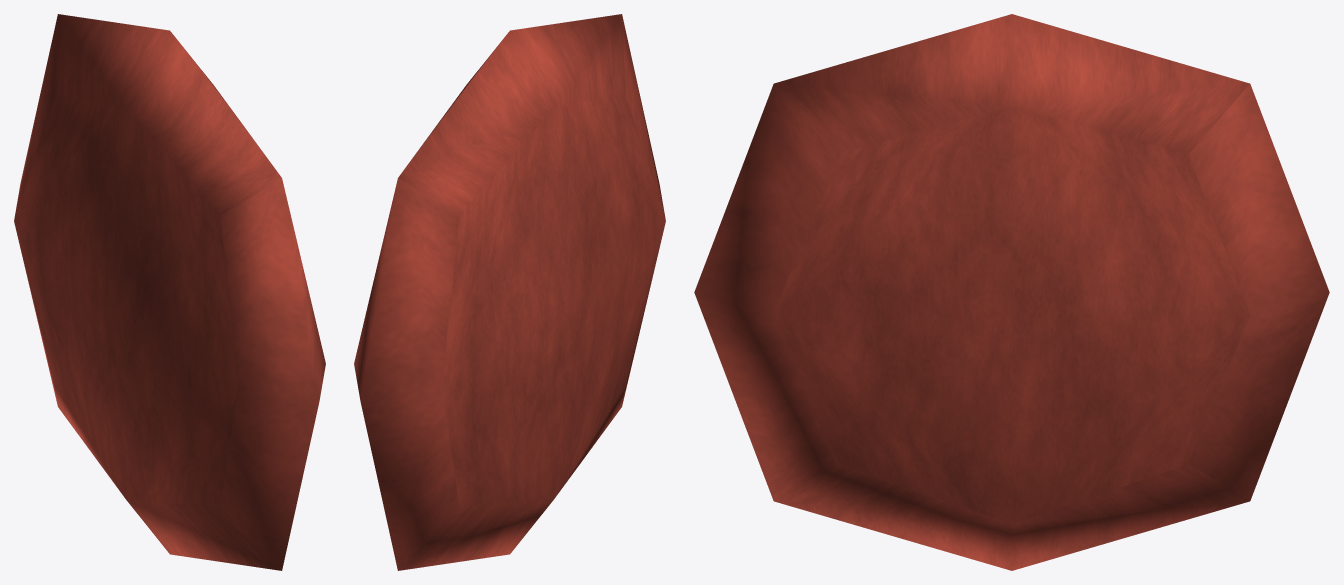
File: blokkade.fbx
3 renders of one model, left to right at view 1: azimuth 30°, elevation 25°; view 2: azimuth 150°, elevation 25°; view 3: azimuth 270°, elevation 25°, orthographic. The views are drawn at different scales.
Visible parts, largest first — view 1: pCube1; view 2: pCube1; view 3: pCube1.
Boxes of the visible parts, x1,y1,x2,y2 form: pCube1: (14, 14, 325, 570); pCube1: (354, 14, 665, 570); pCube1: (694, 14, 1329, 570).
Bounding box in the file's own units: 2.24 × 9.56 × 9.89.
